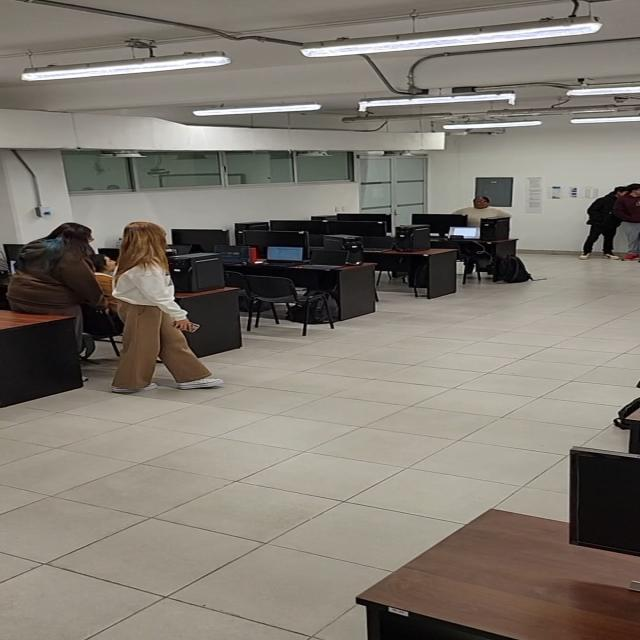Persona: (113, 220, 218, 390), (19, 218, 96, 320), (576, 176, 628, 260), (458, 188, 513, 234)
